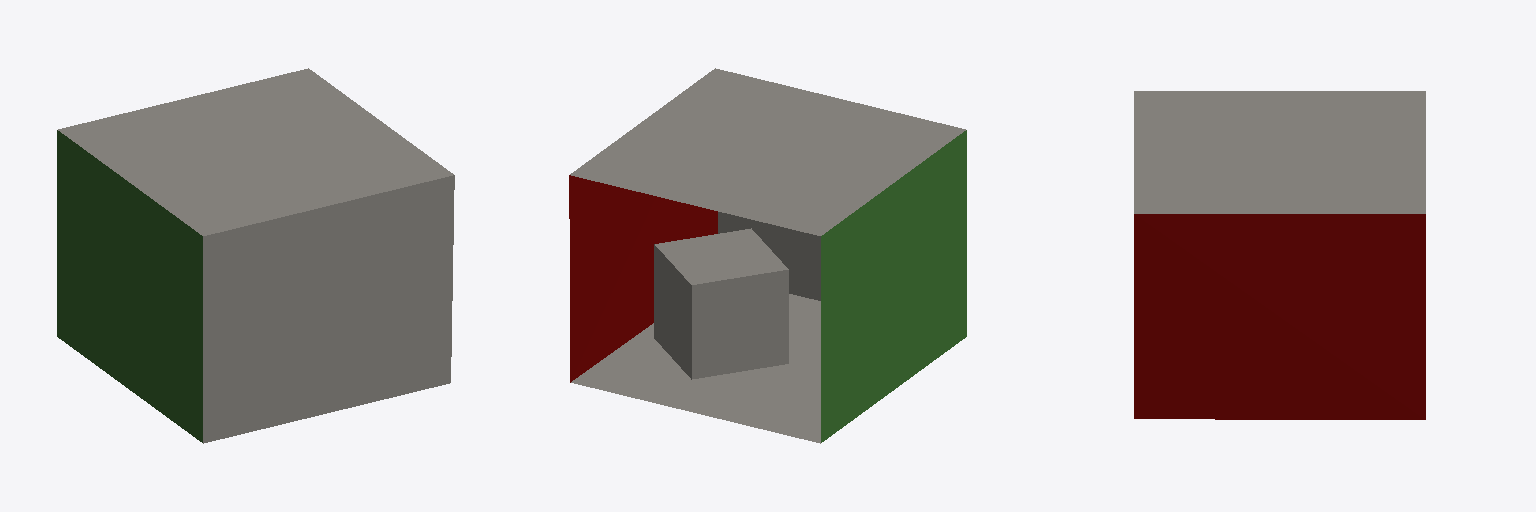
Rendered from cornell-box-glossy.obj.
3 renders of one model, left to right at view 1: azimuth 30°, elevation 25°; view 2: azimuth 150°, elevation 25°; view 3: azimuth 270°, elevation 25°, orthographic.
Visible parts, largest first — view 1: backWall.003, ceiling.003, rightWall.003; view 2: ceiling.003, rightWall.003, shortBox.001, leftWall.003, floor.003, backWall.003; view 3: leftWall.003, ceiling.003.
Part boxes in pixels (x1,y1,x2,y2): backWall.003: (203, 175, 454, 443); ceiling.003: (58, 68, 453, 235); rightWall.003: (57, 130, 202, 442); ceiling.003: (570, 68, 965, 235); rightWall.003: (821, 130, 966, 442); shortBox.001: (654, 228, 788, 379); leftWall.003: (569, 175, 717, 382); floor.003: (571, 294, 820, 443); backWall.003: (718, 212, 820, 300); leftWall.003: (1134, 214, 1425, 419); ceiling.003: (1134, 91, 1425, 213).
Size of the model in its own units: 2.02 by 1.59 by 2.03.